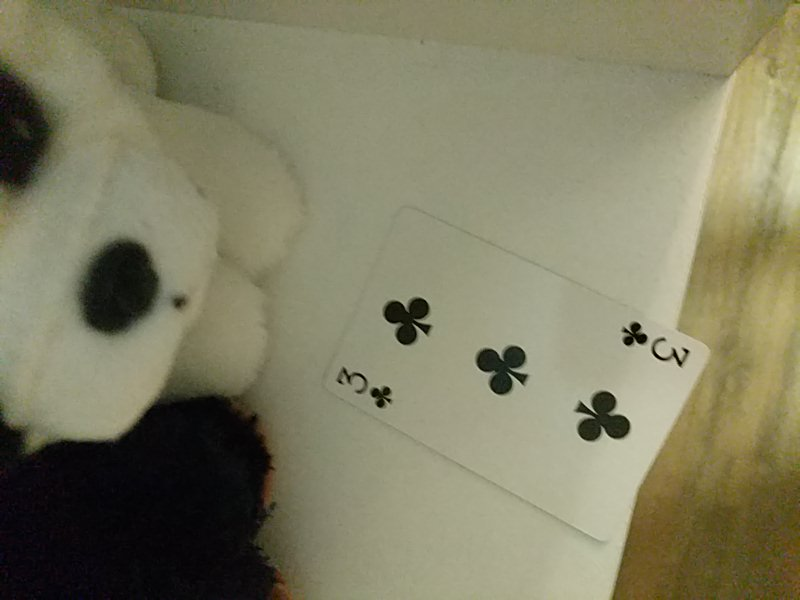Clubs: (327, 205, 713, 547)
